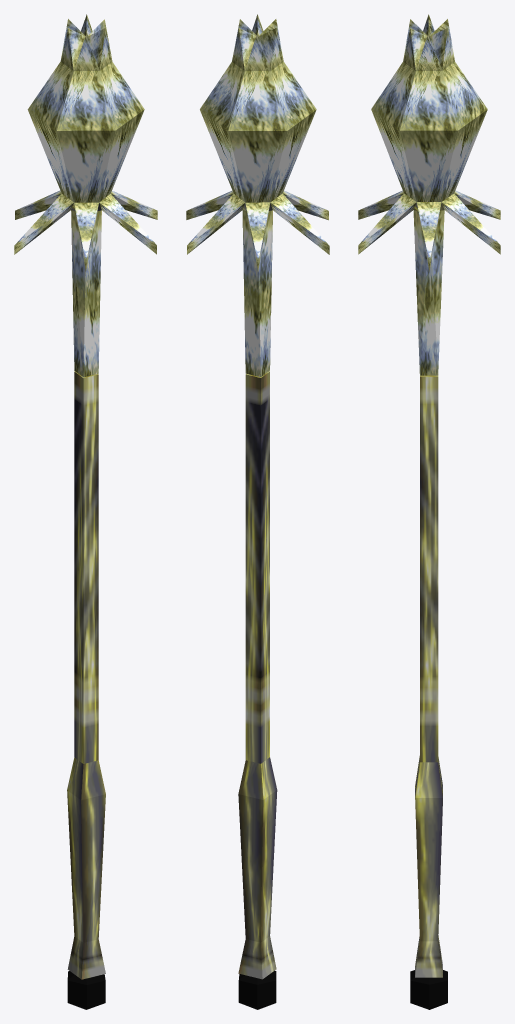
The model's file is wavemaster01_5.obj.
3 renders of one model, left to right at view 1: azimuth 30°, elevation 25°; view 2: azimuth 150°, elevation 25°; view 3: azimuth 270°, elevation 25°, orthographic.
Parts seen in each view (by area): view 1: wavemaster01_5; view 2: wavemaster01_5; view 3: wavemaster01_5.
Boxes of the visible parts, x1,y1,x2,y2 form: wavemaster01_5: (14, 14, 157, 1009); wavemaster01_5: (186, 14, 329, 1009); wavemaster01_5: (358, 14, 500, 1009).
Size of the model in its own units: 0.2587 by 1.7 by 0.2224.
